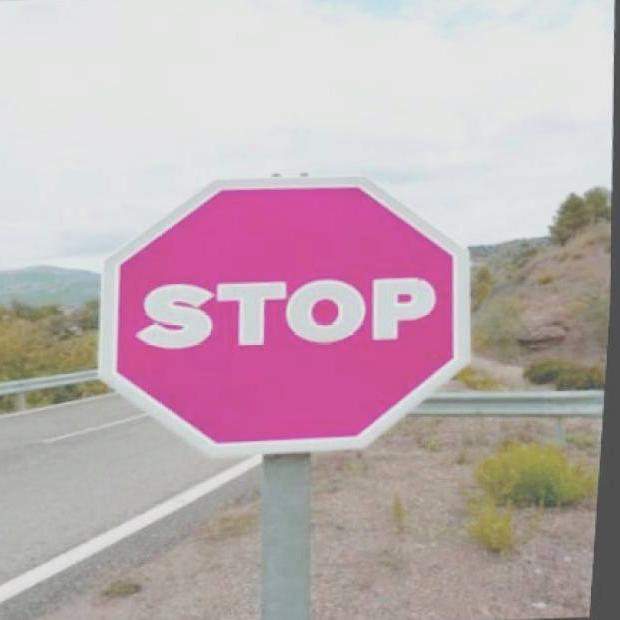stop_sign: (74, 154, 493, 477)
